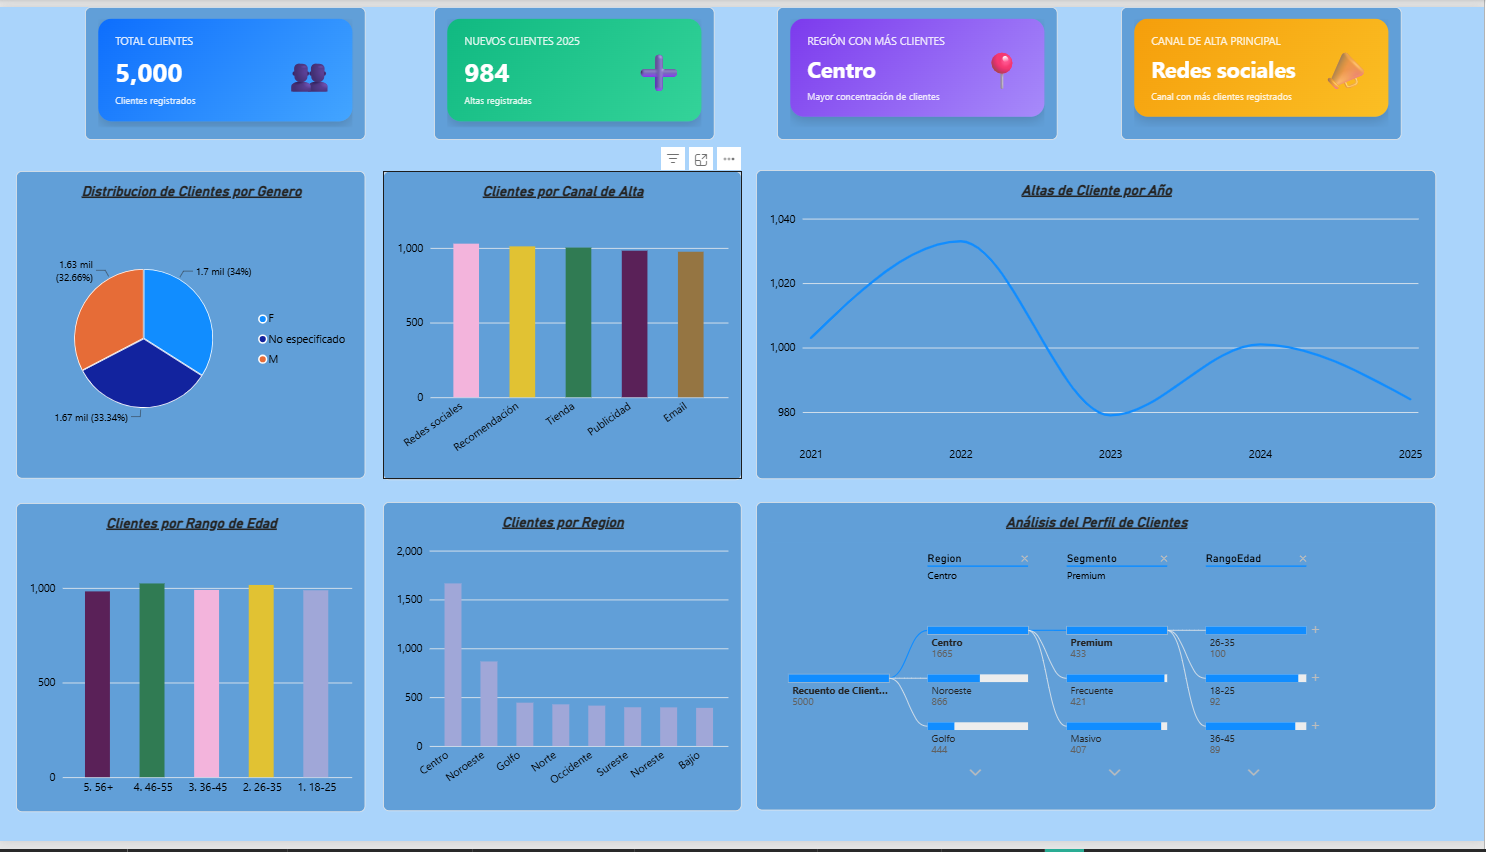

This screenshot's page, from the dashboard's own definition file:
{"tool":"powerbi","page":{"name":"🧑🤝🧑 Clientes","canvas":[1920,1080],"ordinal":5},"visuals":[{"type":"htmlContent443BE3AD55E043BF878BED274D3A6855","fields":{"content":["Dim_Clientes.HTML Total Clientes"]},"box":[110.6,0,362.5,172.3],"z":0},{"type":"htmlContent443BE3AD55E043BF878BED274D3A6855","fields":{"content":["Dim_Clientes.HTML Clientes Nuevos 2025"]},"box":[560.9,0,363,172],"z":1},{"type":"htmlContent443BE3AD55E043BF878BED274D3A6855","fields":{"content":["Dim_Clientes.HTML Región con Más Clientes"]},"box":[1004.7,0,363,172],"z":2},{"type":"htmlContent443BE3AD55E043BF878BED274D3A6855","fields":{"content":["Dim_Clientes.HTML Canal de Alta Principal"]},"box":[1450.2,0,363,172],"z":3},{"type":"pieChart","title":"Distribucion de Clientes por Genero","fields":{"Category":["Dim_Clientes.Genero"],"Y":["Count(Dim_Clientes.ClienteID)"]},"box":[20.4,211.6,452.3,398.3],"z":4},{"type":"clusteredColumnChart","title":"Clientes por Rango de Edad","fields":{"Category":["Dim_Clientes.Rango Edad Ordenado"],"Y":["Count(Dim_Clientes.ClienteID)"]},"box":[20.4,641.9,452.3,399.8],"z":5},{"type":"clusteredColumnChart","title":"Clientes por Canal de Alta","fields":{"Category":["Dim_Clientes.CanalAlta"],"Y":["Count(Dim_Clientes.ClienteID)"]},"box":[496,211.6,464,399.8],"z":6},{"type":"clusteredColumnChart","title":"Clientes por Region","fields":{"Category":["Dim_Clientes.Region"],"Y":["CountNonNull(Dim_Clientes.ClienteID)"]},"box":[496,640.5,464,399.8],"z":7},{"type":"lineChart","title":"Altas de Cliente por Año","fields":{"Category":["Dim_Clientes.FechaAlta.Variación.Jerarquía de fechas.Año"],"Y":["Count(Dim_Clientes.ClienteID)"]},"box":[978.7,211.3,879.5,399.9],"z":8},{"type":"decompositionTreeVisual","title":"Análisis del Perfil de Clientes","fields":{"Analyze":["Count(Dim_Clientes.ClienteID)"],"ExplainBy":["Dim_Clientes.Region","Dim_Clientes.Segmento","Dim_Clientes.RangoEdad","Dim_Clientes.CanalAlta","Dim_Clientes.Genero"]},"box":[978.7,640.5,879.5,399],"z":9}]}

Visuals, with their boxes in screenshot pixels (x1, y1, x2, y2), scaled from the page's 1920x1080 canvas onto the 1486x852 screenshot:
htmlContent443BE3AD55E043BF878BED274D3A6855 - Dim_Clientes.HTML Total Clientes: select_region(86, 0, 366, 136)
htmlContent443BE3AD55E043BF878BED274D3A6855 - Dim_Clientes.HTML Clientes Nuevos 2025: select_region(434, 0, 715, 136)
htmlContent443BE3AD55E043BF878BED274D3A6855 - Dim_Clientes.HTML Región con Más Clientes: select_region(778, 0, 1059, 136)
htmlContent443BE3AD55E043BF878BED274D3A6855 - Dim_Clientes.HTML Canal de Alta Principal: select_region(1122, 0, 1403, 136)
"Distribucion de Clientes por Genero" pieChart: select_region(16, 167, 366, 481)
"Clientes por Rango de Edad" clusteredColumnChart: select_region(16, 506, 366, 822)
"Clientes por Canal de Alta" clusteredColumnChart: select_region(384, 167, 743, 482)
"Clientes por Region" clusteredColumnChart: select_region(384, 505, 743, 821)
"Altas de Cliente por Año" lineChart: select_region(757, 167, 1438, 482)
"Análisis del Perfil de Clientes" decompositionTreeVisual: select_region(757, 505, 1438, 820)
